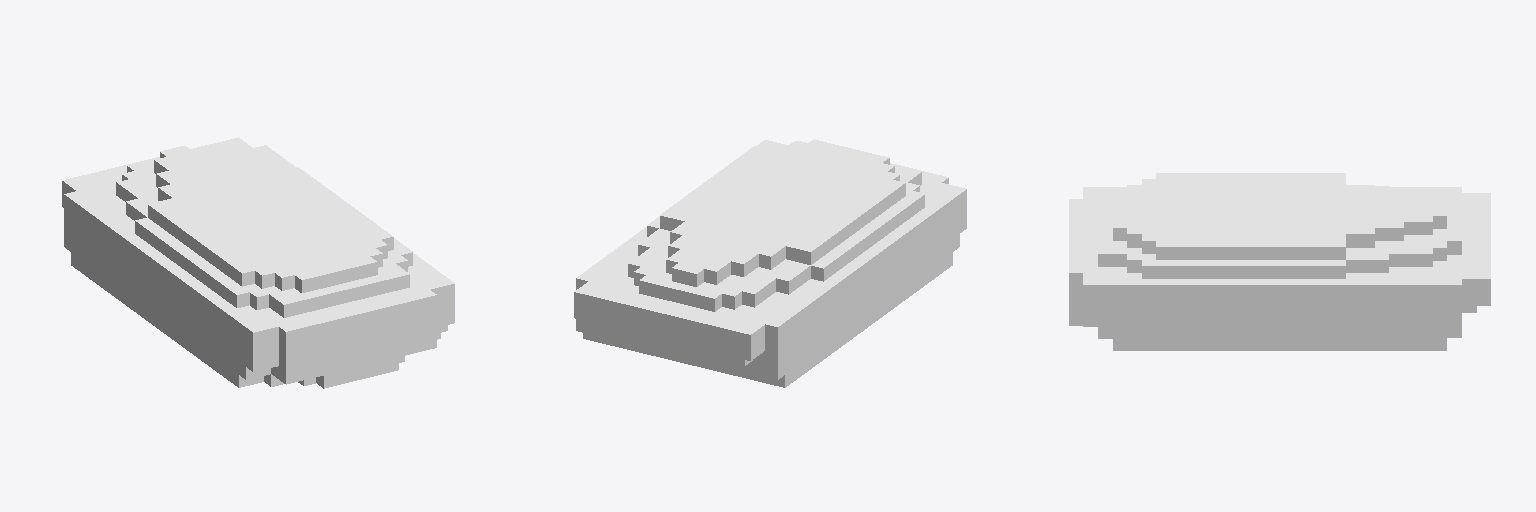
Rendered from TankBase.obj.
3 views of the same model, side by side, from view 1: azimuth 30°, elevation 25°; view 2: azimuth 150°, elevation 25°; view 3: azimuth 270°, elevation 25° (orthographic).
Parts seen in each view (by area): view 1: object 1; view 2: object 1; view 3: object 1.
Part boxes in pixels (x1,y1,x2,y2): object 1: (62, 137, 454, 388); object 1: (574, 139, 966, 387); object 1: (1069, 173, 1490, 350).
Size of the model in its own units: 1.6 by 0.7 by 2.9.